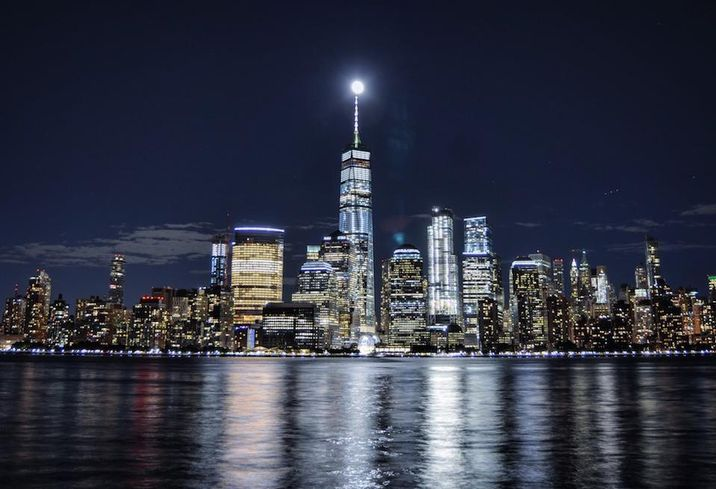wtc: (340, 87, 377, 331)
